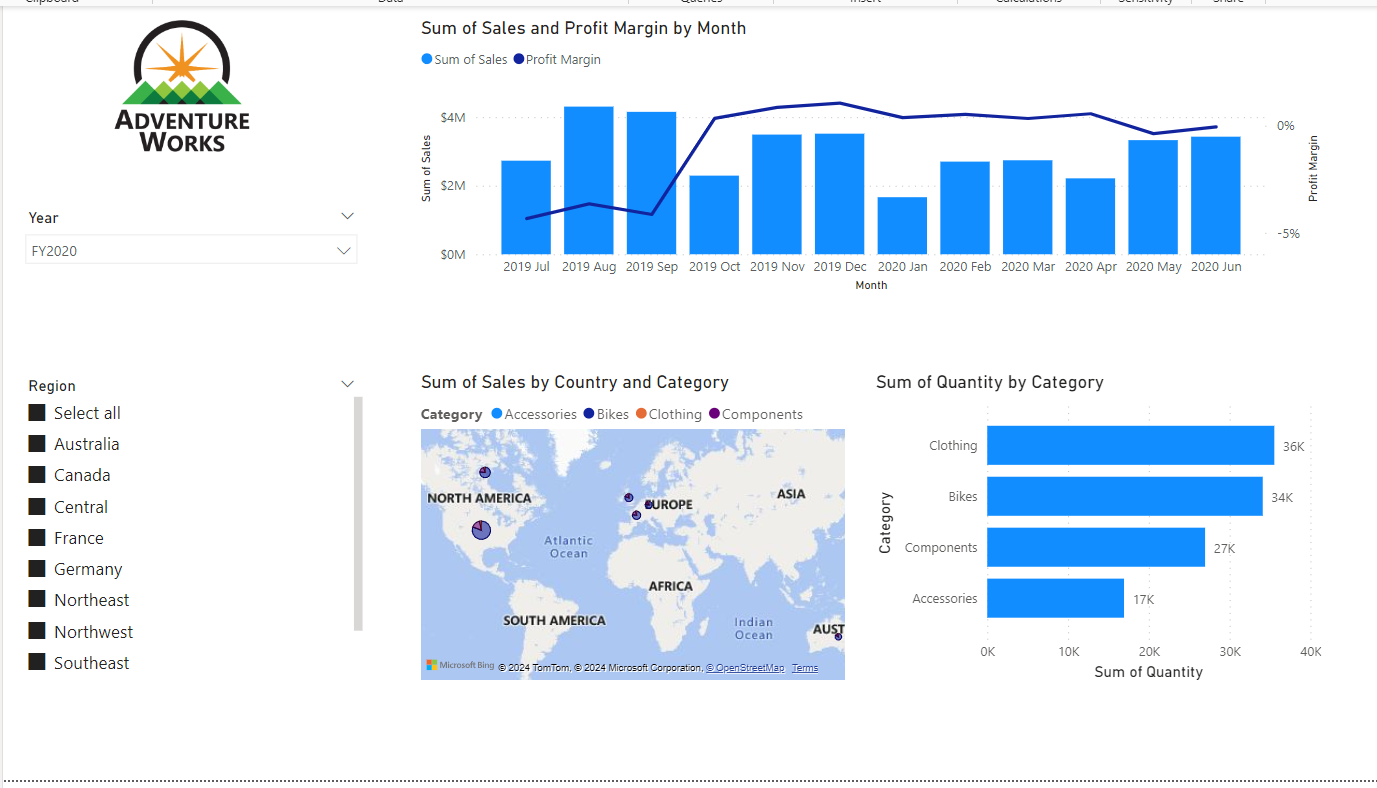

The dashboard page shown, as its layout file describes it:
{"tool":"powerbi","page":{"name":"Overview","canvas":[1280,720],"ordinal":3},"visuals":[{"type":"image","box":[10.5,0,312.8,148.8],"z":0},{"type":"slicer","fields":{"Values":["Date.Year"]},"box":[10.5,183.7,329.1,155.8],"z":1000},{"type":"slicer","fields":{"Values":["Region.Region"]},"box":[10.5,339.5,329.1,293],"z":2000},{"type":"lineStackedColumnComboChart","fields":{"Category":["Date.Month"],"Y":["Sum(Sales.Sales)"],"Y2":["Sales.Profit Margin"]},"box":[383.7,10.5,846.5,260.5],"z":3000},{"type":"map","fields":{"Category":["Region.Country"],"Series":["Product.Category"],"Size":["Sum(Sales.Sales)"]},"box":[383.7,339.5,404.7,293],"z":4000},{"type":"barChart","fields":{"Category":["Product.Category"],"Y":["Sum(Sales.Quantity)"]},"box":[807,339.5,424.4,293],"z":5000}]}

Visuals, with their boxes on the page's 1280x720 design canvas (x1, y1, x2, y2). These are canvas units, not pixel positions in the 1377x788 screenshot, which may show the page scaled, cropped or inside an application window:
image: bbox=(10, 0, 323, 149)
slicer - Date.Year: bbox=(10, 184, 340, 340)
slicer - Region.Region: bbox=(10, 340, 340, 632)
lineStackedColumnComboChart - Date.Month x Sum(Sales.Sales): bbox=(384, 10, 1230, 271)
map - Region.Country x Product.Category: bbox=(384, 340, 788, 632)
barChart - Product.Category x Sum(Sales.Quantity): bbox=(807, 340, 1231, 632)
